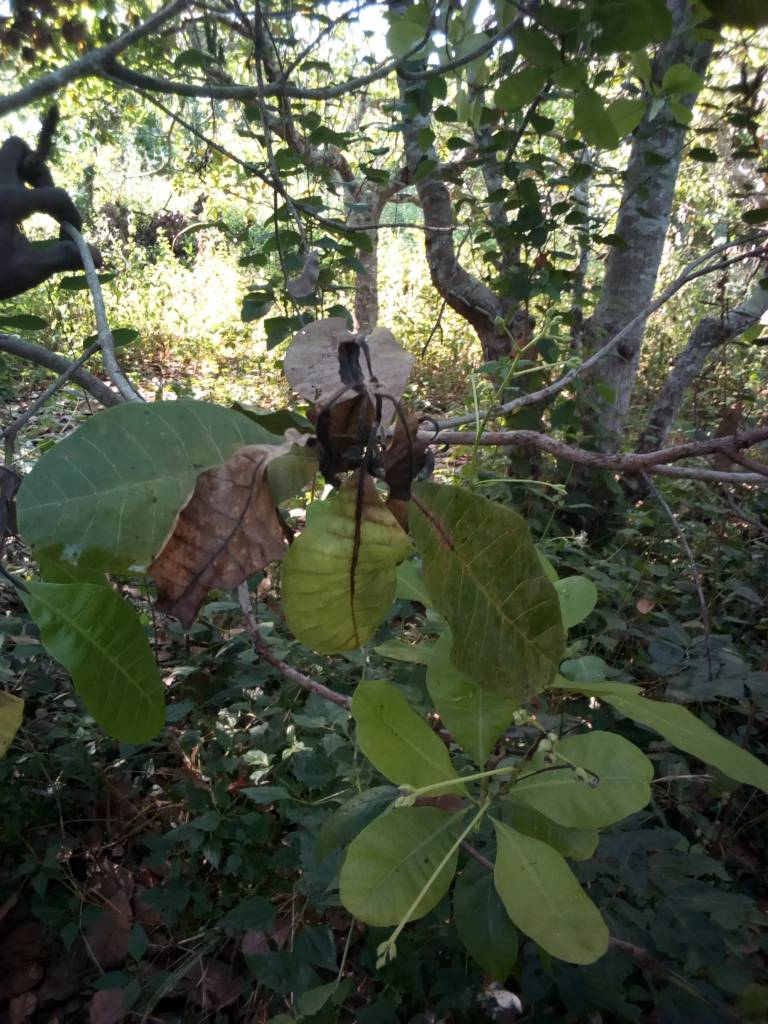Die-black: (135, 422, 294, 636), (280, 295, 413, 464)
